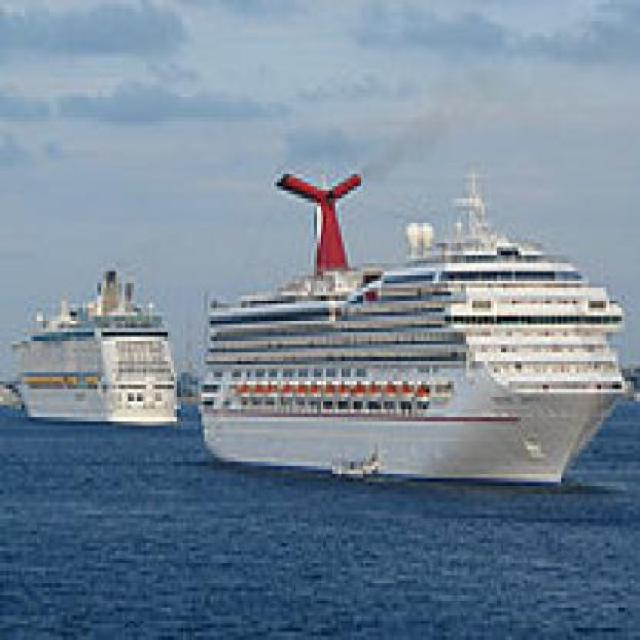cruise: (187, 151, 638, 503), (7, 256, 187, 435)
